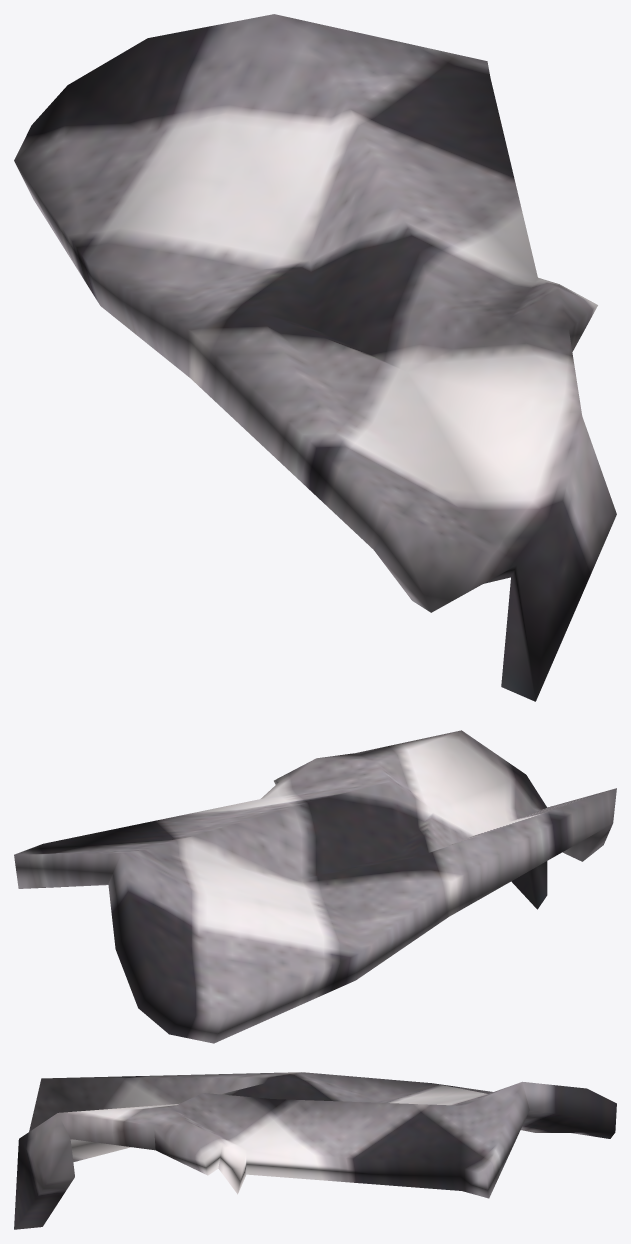
The model's file is Col_Bed_blanket.fbx.
3 renders of one model, top to bottom at view 1: azimuth 30°, elevation 25°; view 2: azimuth 150°, elevation 25°; view 3: azimuth 270°, elevation 25°, orthographic. The views are drawn at different scales.
Visible parts, largest first — view 1: Col_Bed_blanket; view 2: Col_Bed_blanket; view 3: Col_Bed_blanket.
Boxes of the visible parts, <box> form: Col_Bed_blanket: <box>14,14,616,701</box>; Col_Bed_blanket: <box>14,730,616,1043</box>; Col_Bed_blanket: <box>14,1072,616,1229</box>.
Size of the model in its own units: 155 by 103 by 286.
